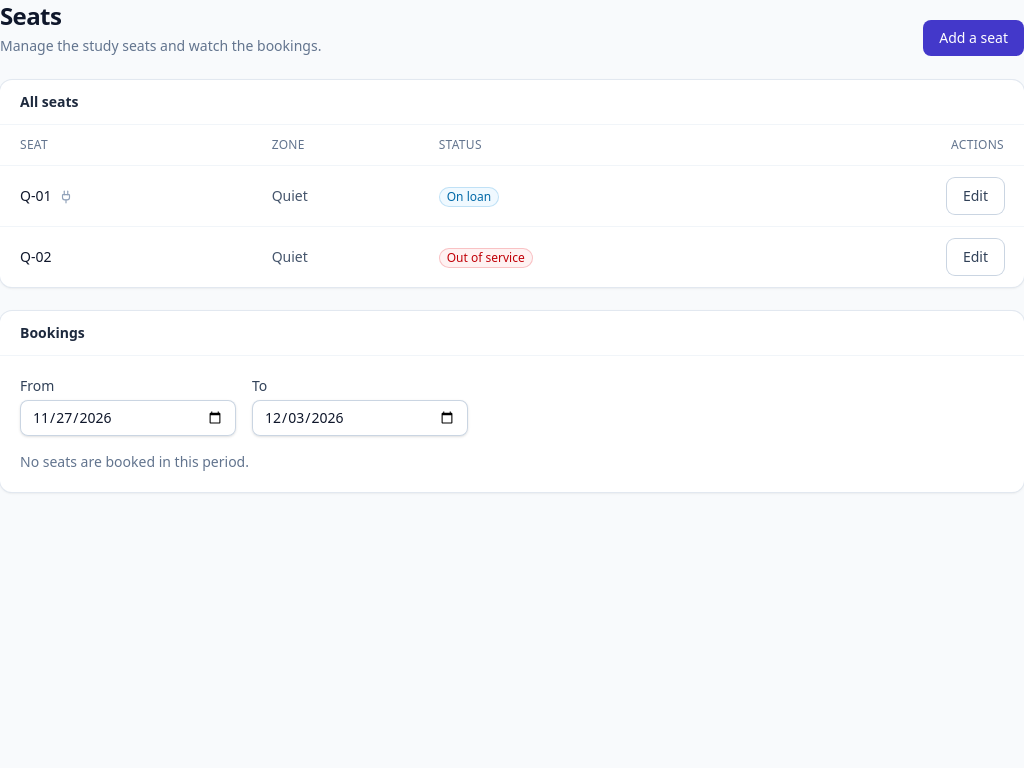
it: StaffSeatsPage › edits a seat with its current values and can take it out of service
Click the button with aria-label "Edit seat Q-01": point(975, 196) top-left (947, 178), bottom-right (1004, 214)
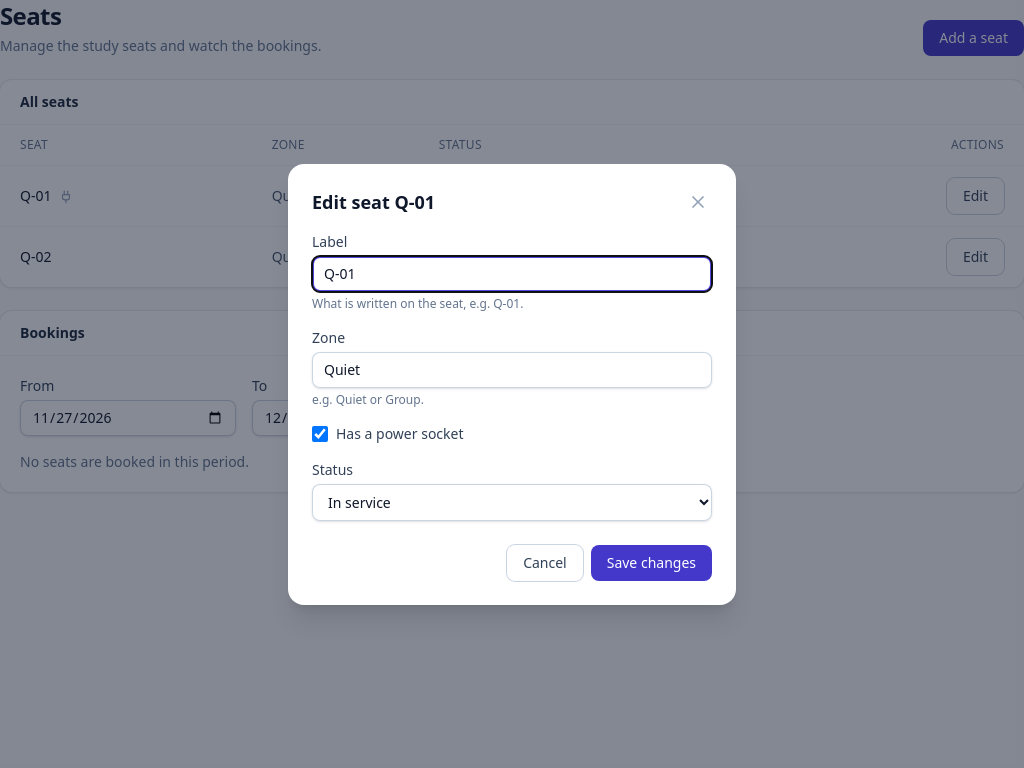
Expected: the field labelled "Label" holds "Q-01", top-left (312, 256), bottom-right (712, 292)
Expected: the checkbox labelled "Has a power socket" is checked, top-left (312, 426), bottom-right (328, 442)
Select "Out of service" in the dropdown labelled "Status": point(512, 502) top-left (312, 484), bottom-right (712, 520)
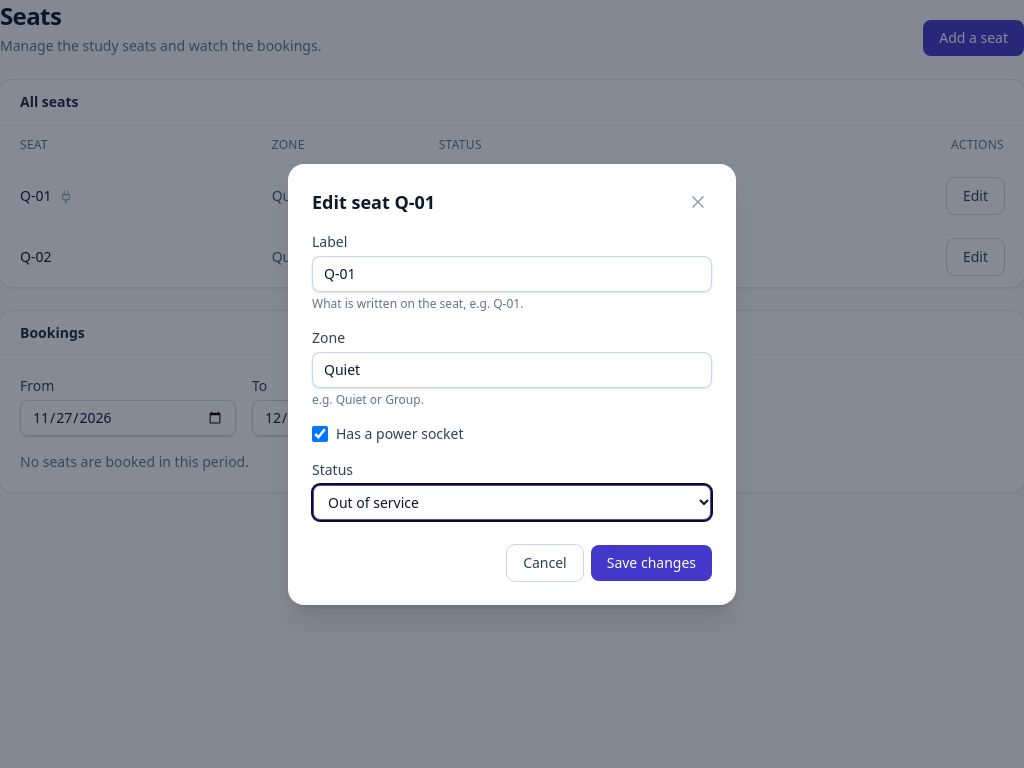
Click the button "Save changes": point(651, 562) top-left (591, 544), bottom-right (712, 580)
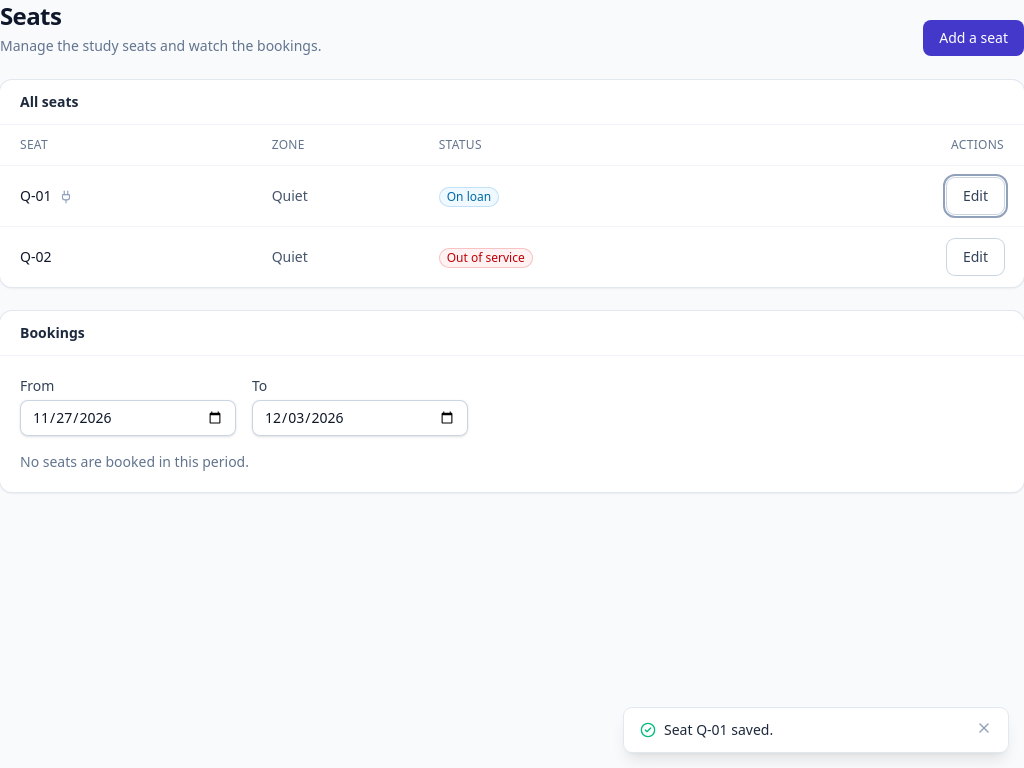
Expected: the text "Seat Q-01 saved." is shown, top-left (664, 720), bottom-right (773, 739)
